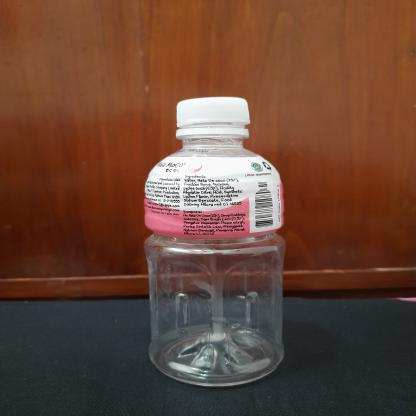plastic: (138, 94, 288, 388)
